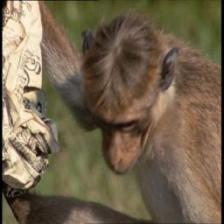monkey: (76, 10, 182, 186)
